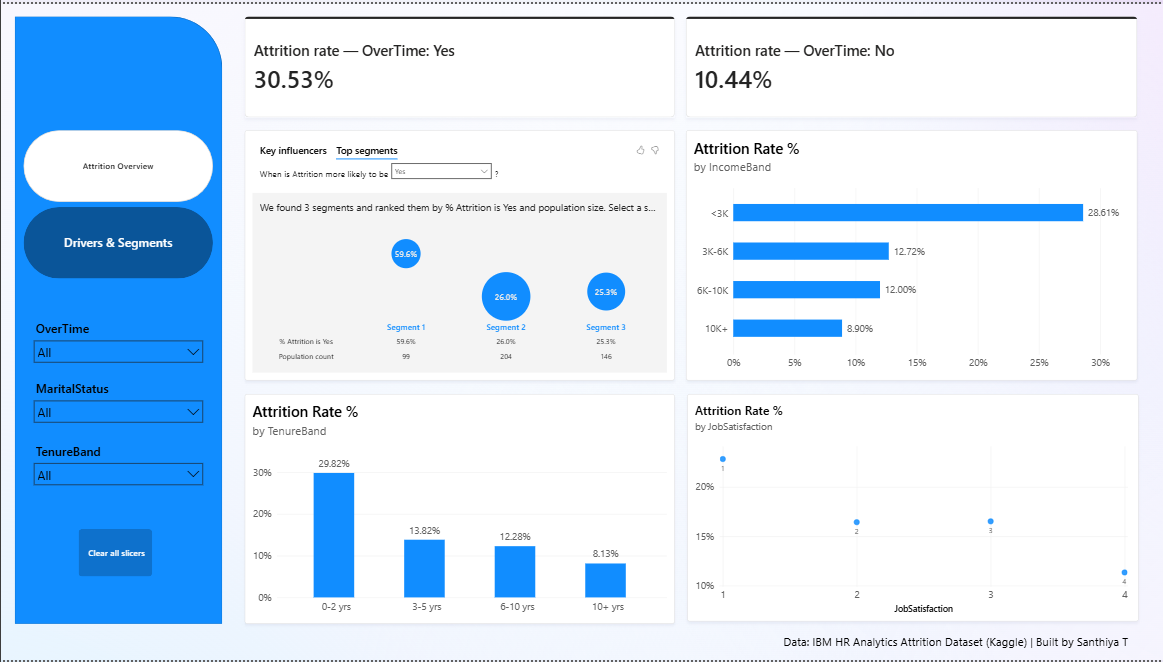

Layout of this report page (visuals, bound fields, positions):
{"tool":"powerbi","page":{"name":"Drivers & Segments","canvas":[1920,1080],"ordinal":1},"visuals":[{"type":"shape","box":[22.6,20.6,341.7,1000.3],"z":0},{"type":"cardVisual","fields":{"Data":["HR.Attrition Rate %"]},"box":[401.4,20.6,708.1,166.7],"z":1000},{"type":"cardVisual","fields":{"Data":["HR.Attrition Rate %"]},"box":[1128,20.6,743.1,166.7],"z":2000},{"type":"clusteredColumnChart","fields":{"Y":["HR.Attrition Rate %"],"Category":["HR.TenureBand"]},"box":[401.4,642.2,708.1,378.7],"z":3000},{"type":"clusteredBarChart","fields":{"Y":["HR.Attrition Rate %"],"Category":["HR.IncomeBand"]},"box":[1128,207.9,743.1,411.7],"z":4000},{"type":"keyDriversVisual","fields":{"ExplainBy":["HR.OverTime","HR.JobSatisfaction","HR.WorkLifeBalance","HR.MonthlyIncome","HR.YearsAtCompany","HR.DistanceFromHome"],"Target":["HR.Attrition"]},"box":[401.4,207.9,708.1,411.7],"z":5000},{"type":"scatterChart","fields":{"X":["HR.JobSatisfaction"],"Y":["HR.Attrition Rate %"]},"box":[1130,642.2,743.1,374.6],"z":6000},{"type":"textbox","box":[1288.5,1037.4,584.6,43.2],"z":7000},{"type":"pageNavigator","box":[37,207.9,312.9,244.9],"z":8000},{"type":"slicer","fields":{"Values":["HR.OverTime"]},"box":[49.4,520.8,288.2,78.2],"z":9000},{"type":"slicer","fields":{"Values":["HR.MaritalStatus"]},"box":[49.4,619.6,288.2,78.2],"z":10000},{"type":"slicer","fields":{"Values":["HR.TenureBand"]},"box":[49.4,722.5,288.2,86.4],"z":11000},{"type":"actionButton","box":[127.6,864.5,121.4,78.2],"z":12000}]}

Visuals, with their boxes in screenshot pixels (x1, y1, x2, y2), scaled from the page's 1920x1080 canvas onto the 1163x662 screenshot:
shape: bbox(14, 13, 221, 626)
cardVisual - HR.Attrition Rate %: bbox(243, 13, 672, 115)
cardVisual - HR.Attrition Rate %: bbox(683, 13, 1133, 115)
clusteredColumnChart - HR.Attrition Rate % x HR.TenureBand: bbox(243, 394, 672, 626)
clusteredBarChart - HR.Attrition Rate % x HR.IncomeBand: bbox(683, 127, 1133, 380)
keyDriversVisual - HR.OverTime x HR.JobSatisfaction: bbox(243, 127, 672, 380)
scatterChart - HR.JobSatisfaction x HR.Attrition Rate %: bbox(684, 394, 1135, 623)
textbox: bbox(780, 636, 1135, 661)
pageNavigator: bbox(22, 127, 212, 278)
slicer - HR.OverTime: bbox(30, 319, 204, 367)
slicer - HR.MaritalStatus: bbox(30, 380, 204, 428)
slicer - HR.TenureBand: bbox(30, 443, 204, 496)
actionButton: bbox(77, 530, 151, 578)
